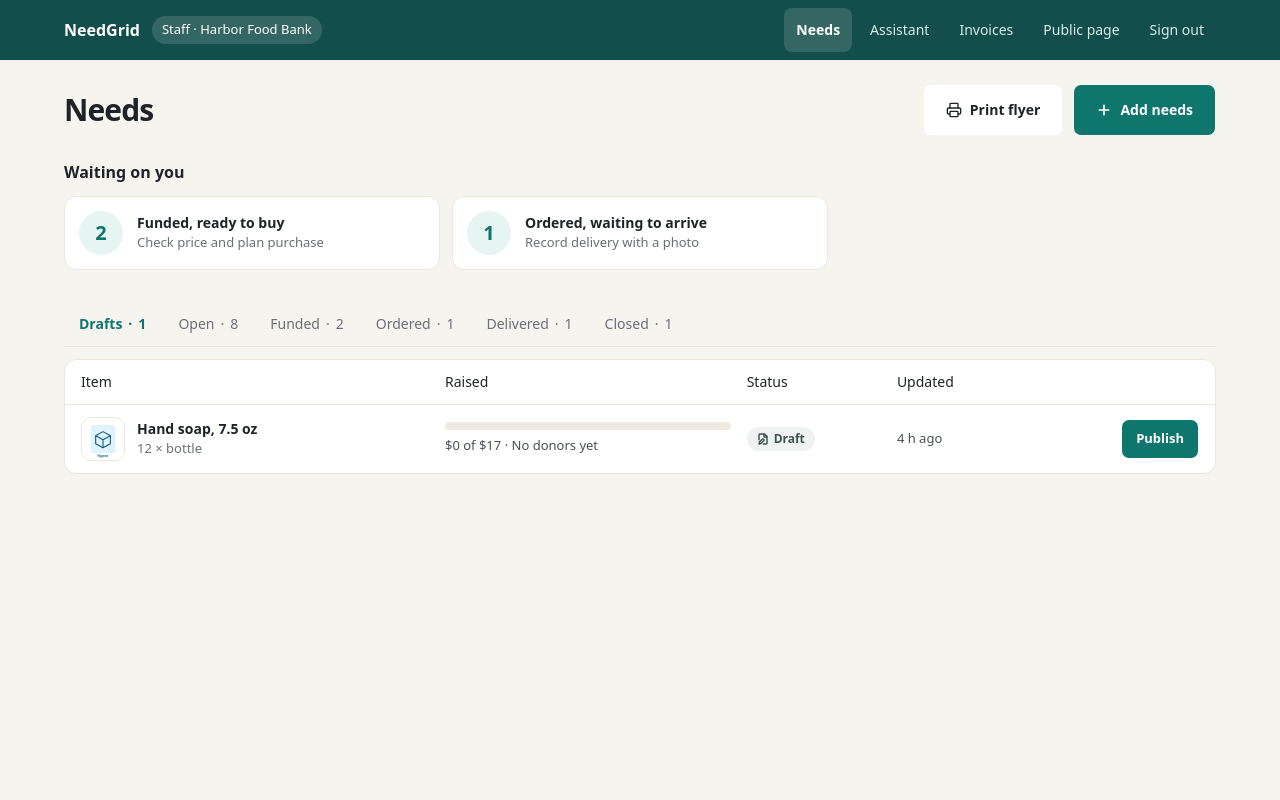
Test: Staff console /staff › a refused publish keeps the row and shows the server's reason
Click the button with aria-label "Publish Hand soap, 7.5 oz" at [1160, 438], box [1121,418,1199,458]
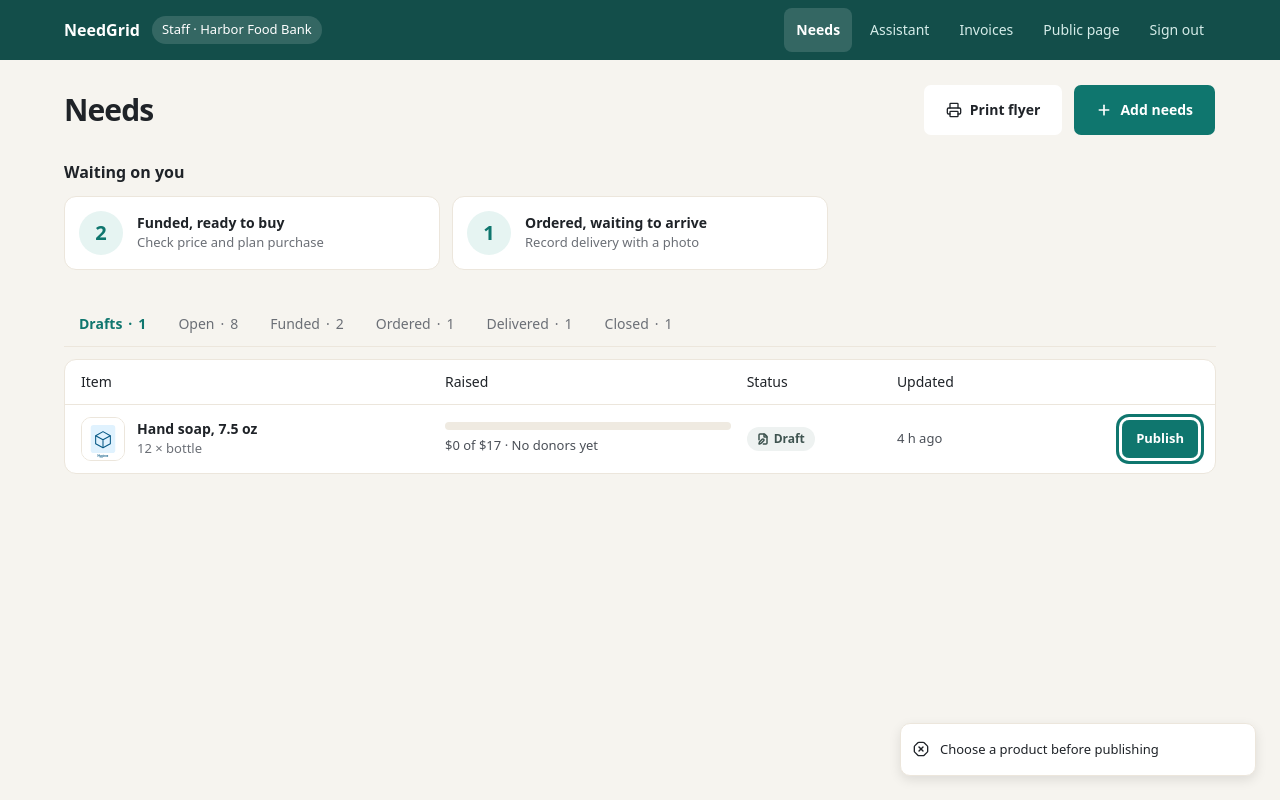
expect the tab named "Drafts 1" is shown: met, box [64,302,161,346]
expect the text "Choose a product before publishing" is shown: met, box [940,740,1159,759]
